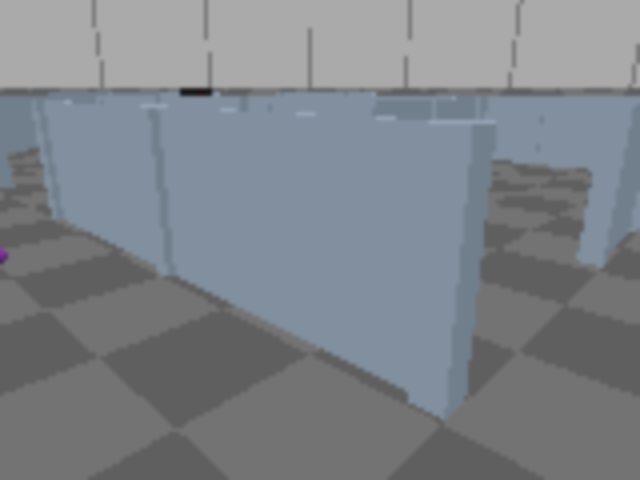puck: (0, 242, 9, 272)
